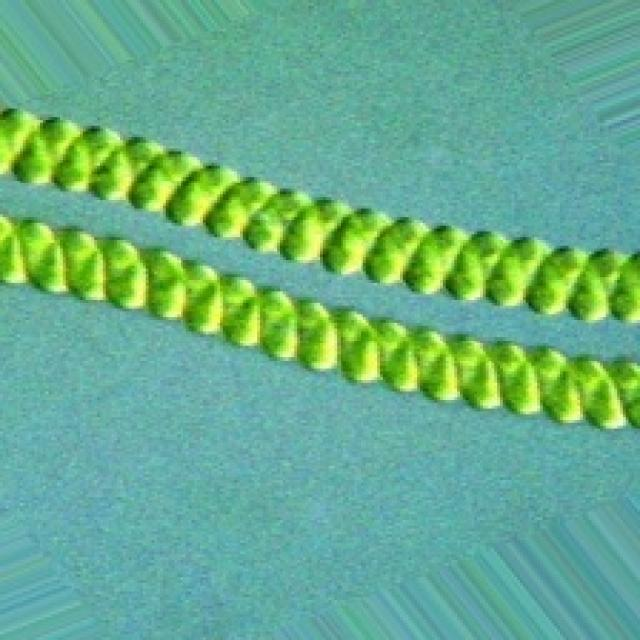Spiral_bacteria: (0, 80, 637, 434)
